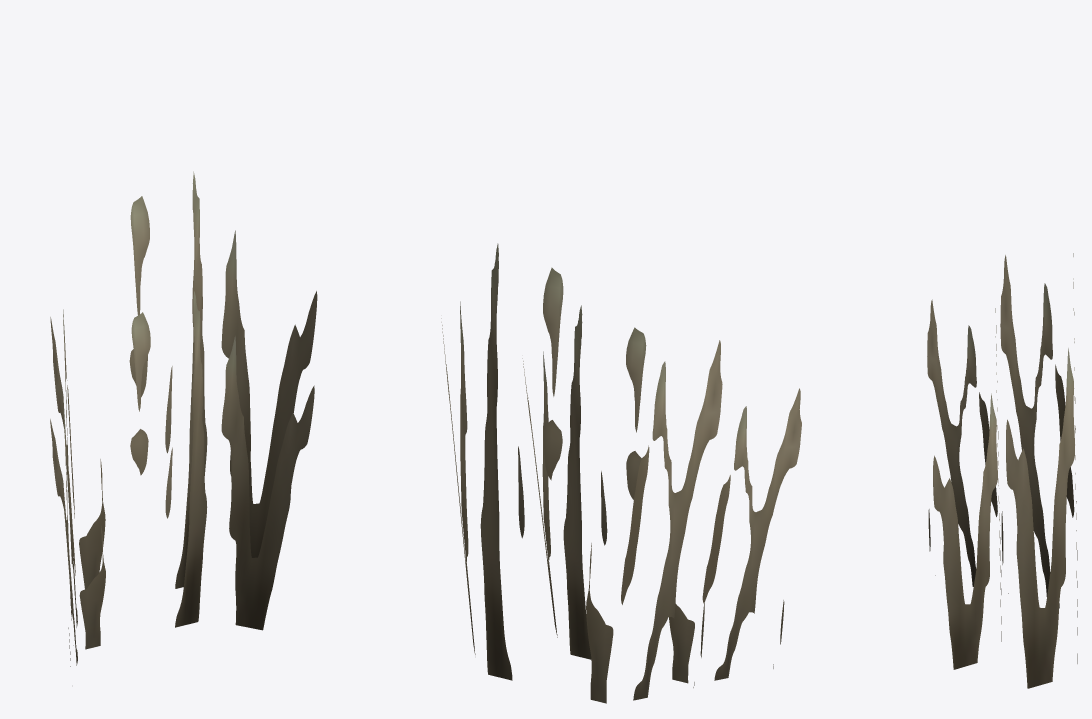
3 views of the same model, side by side, from view 1: azimuth 30°, elevation 25°; view 2: azimuth 150°, elevation 25°; view 3: azimuth 270°, elevation 25° (orthographic). The views are drawn at different scales.
Visible parts, largest first — view 1: t3; view 2: t3; view 3: t3.
Part boxes in pixels (<box>): t3: <box>50,171,317,666</box>; t3: <box>441,243,801,703</box>; t3: <box>927,253,1077,688</box>.
Size of the model in its own units: 306 by 406 by 120.
